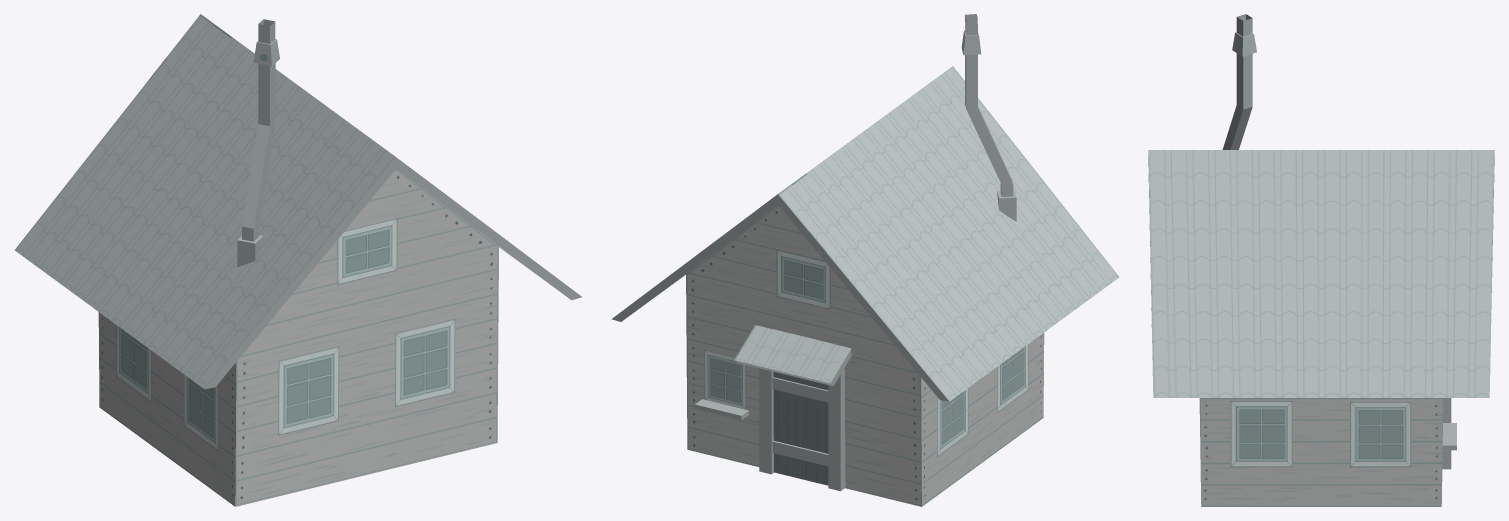
The model's file is 鄉間小屋_4.fbx.
3 renders of one model, left to right at view 1: azimuth 30°, elevation 25°; view 2: azimuth 150°, elevation 25°; view 3: azimuth 270°, elevation 25°, orthographic. The views are drawn at different scales.
Parts seen in each view (by area): view 1: pCube7; view 2: pCube7; view 3: pCube7.
Part boxes in pixels (box(x1,y1,x2,y2)): pCube7: box(14, 14, 581, 506); pCube7: box(611, 14, 1119, 506); pCube7: box(1148, 14, 1494, 506).
Size of the model in its own units: 22.14 by 25.34 by 19.85.
